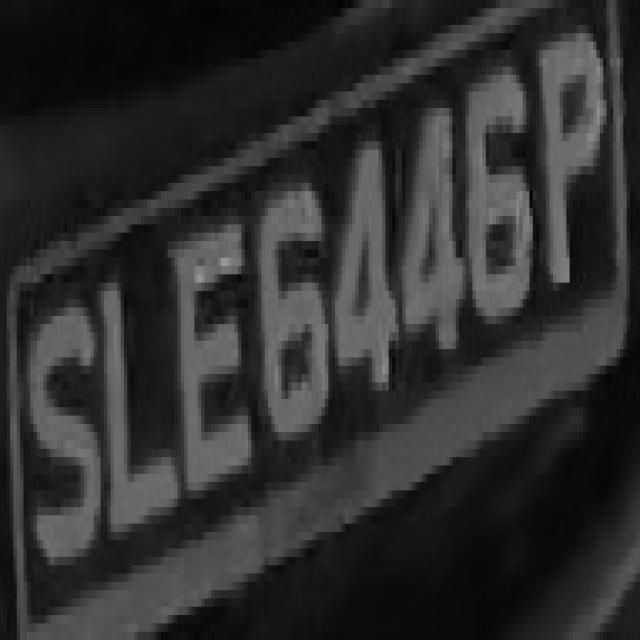4: (318, 108, 399, 441), (378, 83, 462, 374)
6: (452, 50, 543, 341), (248, 158, 328, 465)
E: (168, 207, 262, 524)
L: (100, 250, 181, 548)
P: (532, 25, 616, 299)
S: (24, 282, 97, 574)
